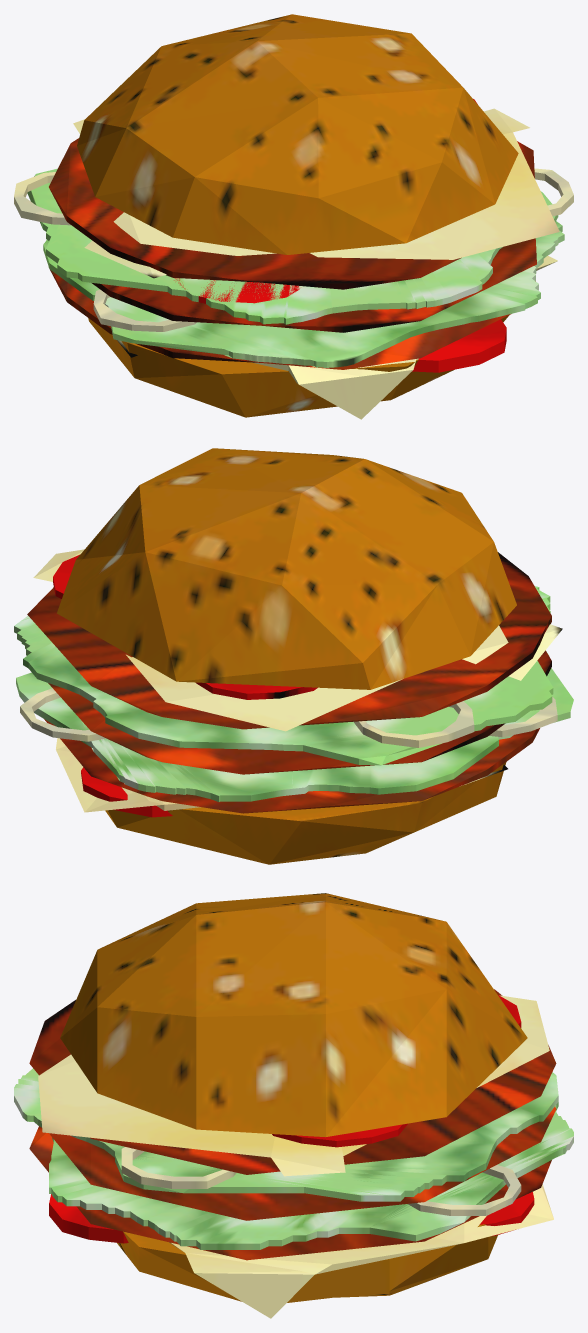
The model's file is Burger.glb.
The picture shows the model from 3 angles, top to bottom: view 1: azimuth 30°, elevation 25°; view 2: azimuth 150°, elevation 25°; view 3: azimuth 270°, elevation 25°; orthographic projection. The views are drawn at different scales.
Visible parts, largest first — view 1: Burger; view 2: Burger; view 3: Burger.
Part boxes in pixels (x1,y1,x2,y2): Burger: (14, 14, 573, 419); Burger: (14, 448, 573, 864); Burger: (14, 893, 573, 1318).
Bounding box in the file's own units: 153 × 95.24 × 149.
Materials: 1 (1 with a texture image).
